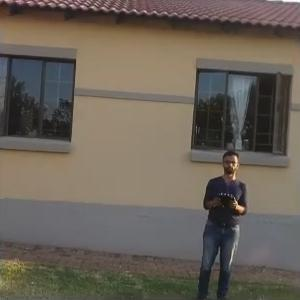follow: (188, 139, 251, 298)
